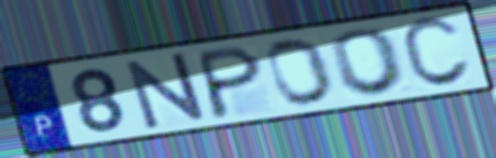8: (69, 67, 129, 135)
C: (398, 14, 475, 91)
N: (122, 50, 210, 132)
O: (328, 25, 412, 99), (264, 36, 338, 108)
P: (198, 42, 265, 121)
